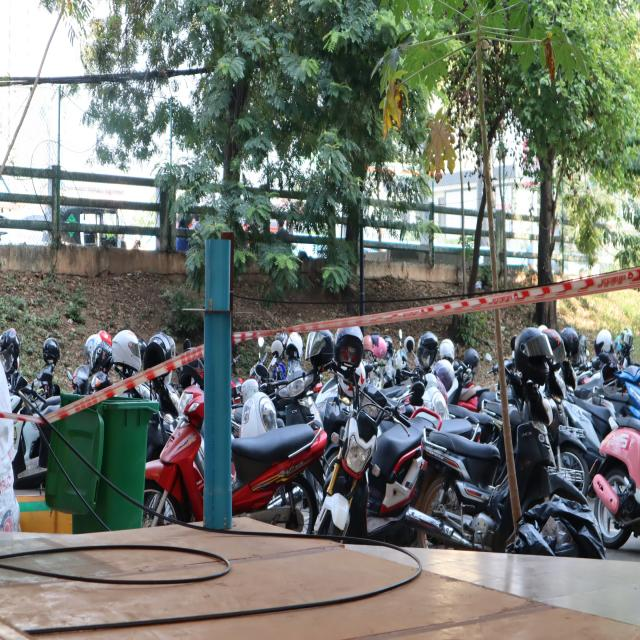pole: (184, 234, 254, 382)
